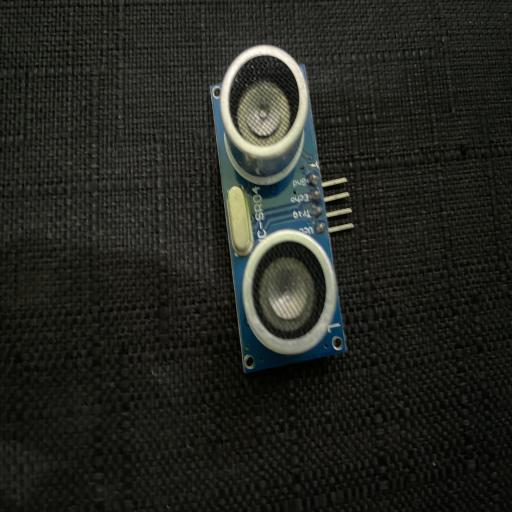Ultrasonic Sensor: (209, 42, 354, 376)
